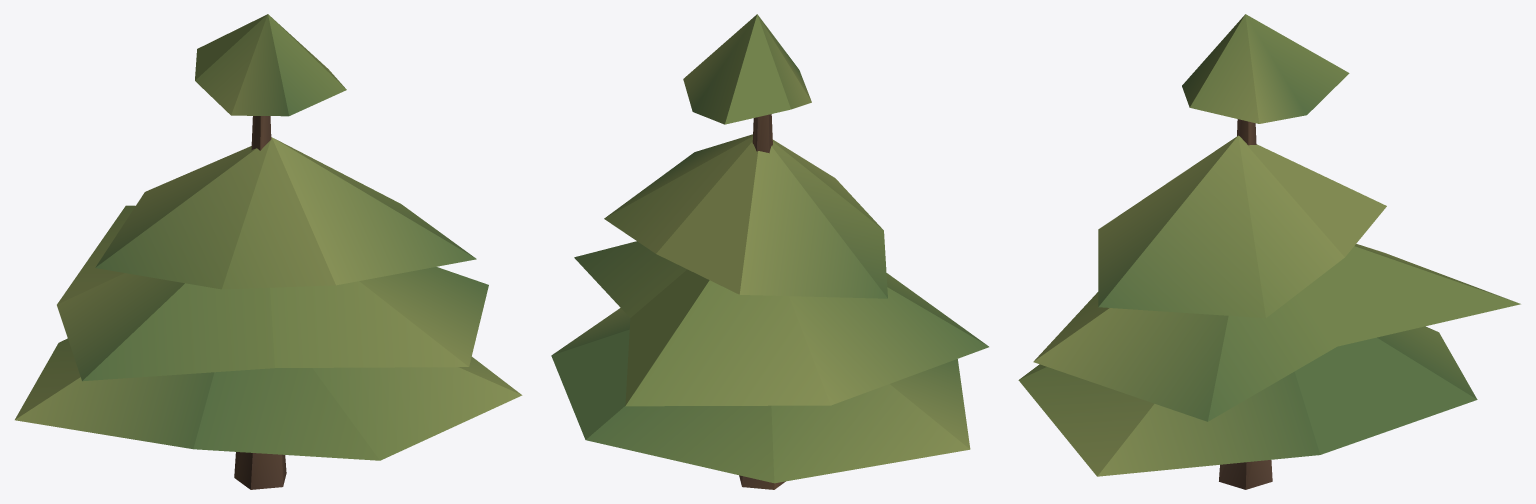
File: ENV_Pine_A_LOD1.glb
3 renders of one model, left to right at view 1: azimuth 30°, elevation 25°; view 2: azimuth 150°, elevation 25°; view 3: azimuth 270°, elevation 25°, orthographic.
Visible parts, largest first — view 1: ENV_Pine_A_LOD1_canopy, ENV_Pine_A_LOD1_trunk; view 2: ENV_Pine_A_LOD1_canopy, ENV_Pine_A_LOD1_trunk; view 3: ENV_Pine_A_LOD1_canopy, ENV_Pine_A_LOD1_trunk.
Boxes of the visible parts, box(x1,y1,x2,y2) form: ENV_Pine_A_LOD1_canopy: box(15, 14, 522, 460); ENV_Pine_A_LOD1_trunk: box(234, 116, 286, 489); ENV_Pine_A_LOD1_canopy: box(551, 14, 988, 483); ENV_Pine_A_LOD1_trunk: box(739, 114, 785, 489); ENV_Pine_A_LOD1_canopy: box(1018, 14, 1520, 476); ENV_Pine_A_LOD1_trunk: box(1219, 119, 1272, 489).
Bounding box in the file's own units: 0.983 × 1 × 0.9766.
